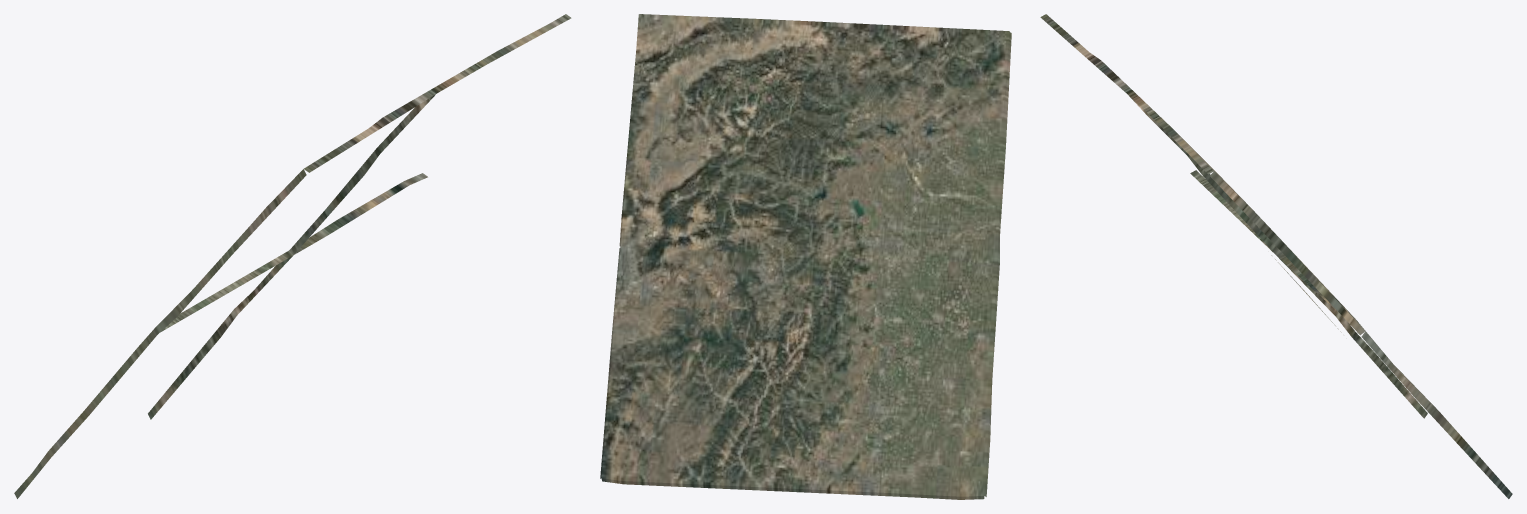
3 renders of one model, left to right at view 1: azimuth 30°, elevation 25°; view 2: azimuth 150°, elevation 25°; view 3: azimuth 270°, elevation 25°, orthographic. The views are drawn at different scales.
Bounding box in the file's own units: 305824 × 252350 × 280727.
1 material, 1 textured.
